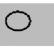no answer: (2, 9, 38, 37)
